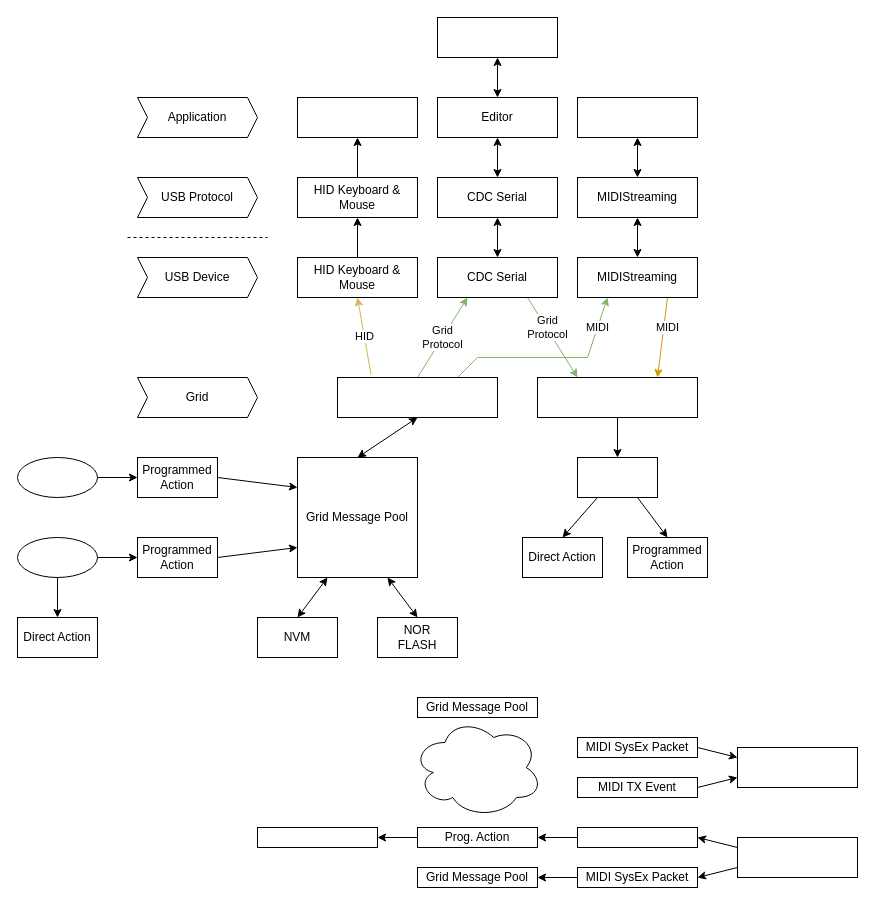
Image size: 875x905. Some labels were removed from this diagram. Each missing label, with the centre of its shape:
"DAW" goes at pixel 637 117.
"Debugger" goes at pixel 497 37.
"Grid to USB translator" goes at pixel 417 397.
"Host Event" goes at pixel 617 477.
"if (...) then LED" goes at pixel 317 837.
"MIDI in" goes at pixel 797 767.
"MIDI out" goes at pixel 797 857.
"MIDI RX Event" goes at pixel 637 837.
"MIDI Stat/Dyn Replace with MIDI TX" goes at pixel 477 767.
"OS" goes at pixel 357 117.
"SYS Event" goes at pixel 57 557.
"UI Event" goes at pixel 57 477.
"USB to Grid translator" goes at pixel 617 397.
